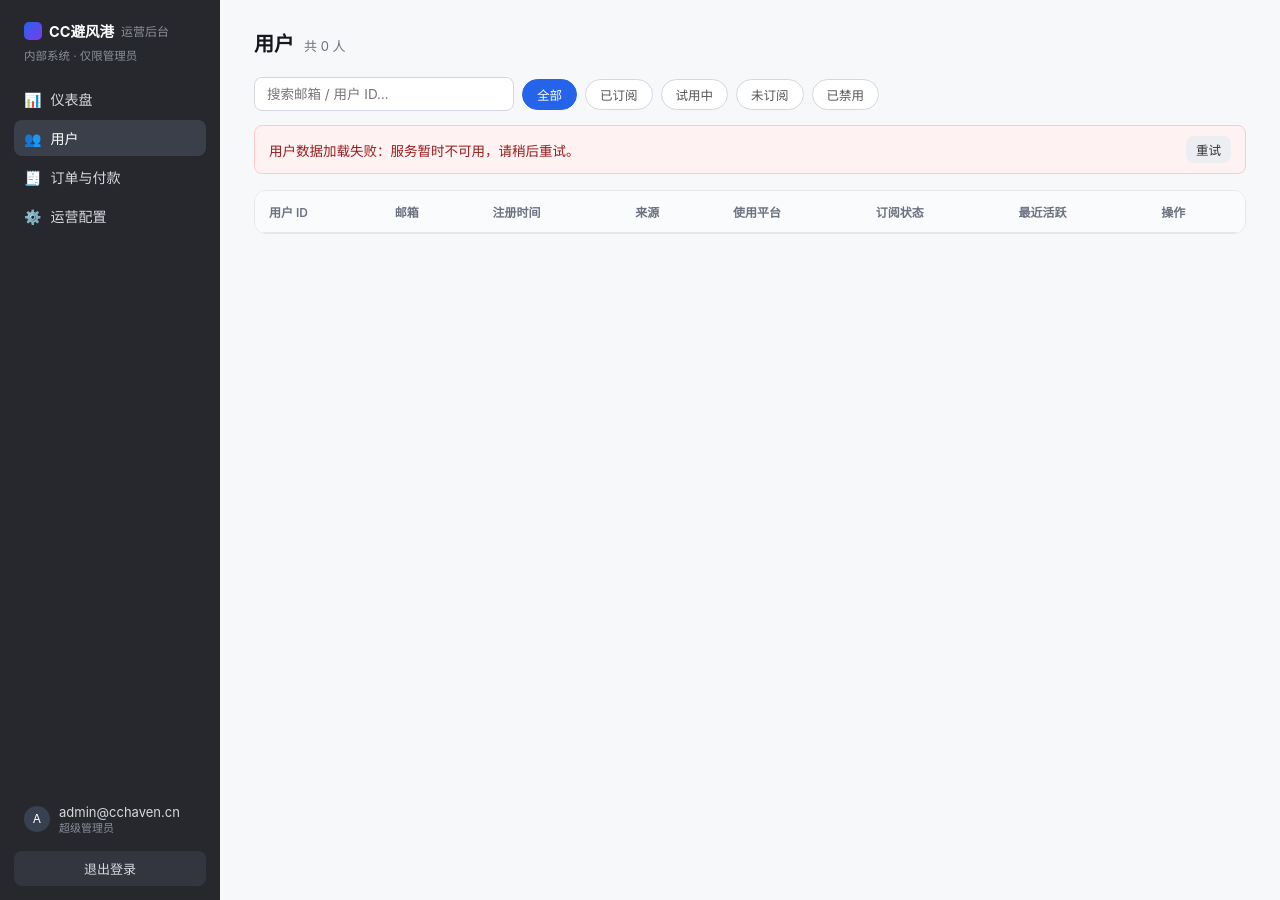
Test: 用户页 › 加载失败显示错误条 + 重试
Expected: the message shows "用户数据加载失败：", [269,142,580,158]
Step 1. Click the button "重试" → (1208, 150), box [1186,136,1231,163]
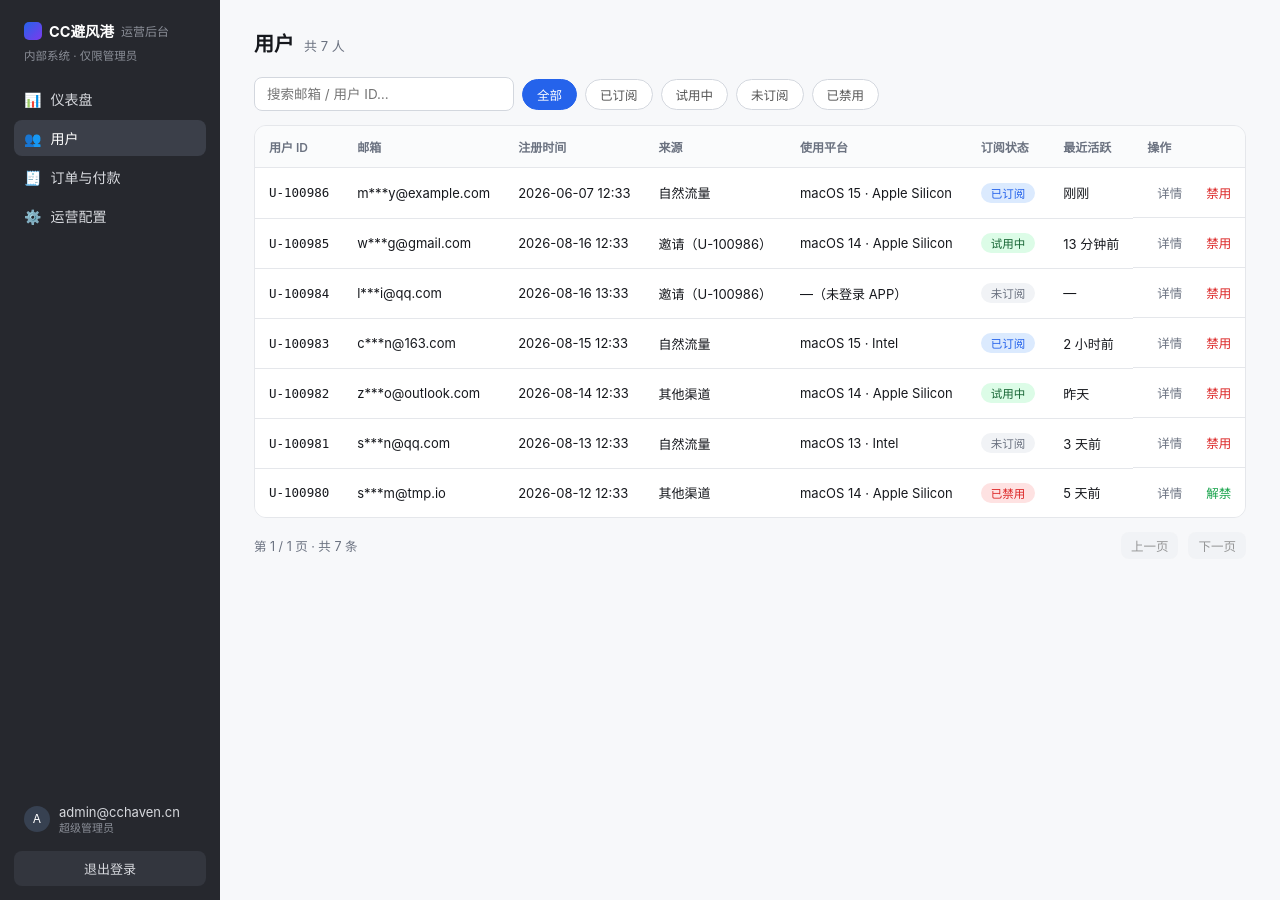
Result: the cell "U-100986" is shown at [255,168,343,218]
